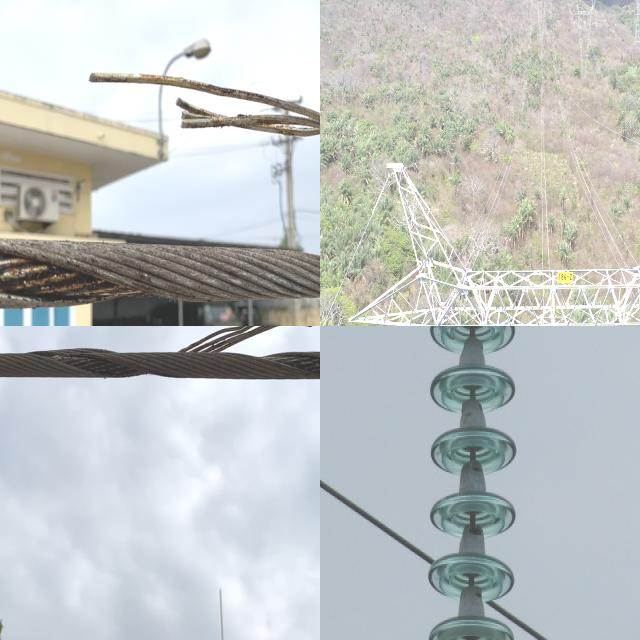杆塔: (349, 154, 640, 326)
正常电缆: (320, 468, 426, 572)
正常绝缘子: (429, 326, 516, 640)
电缆破损: (72, 51, 320, 210), (111, 326, 320, 404)
